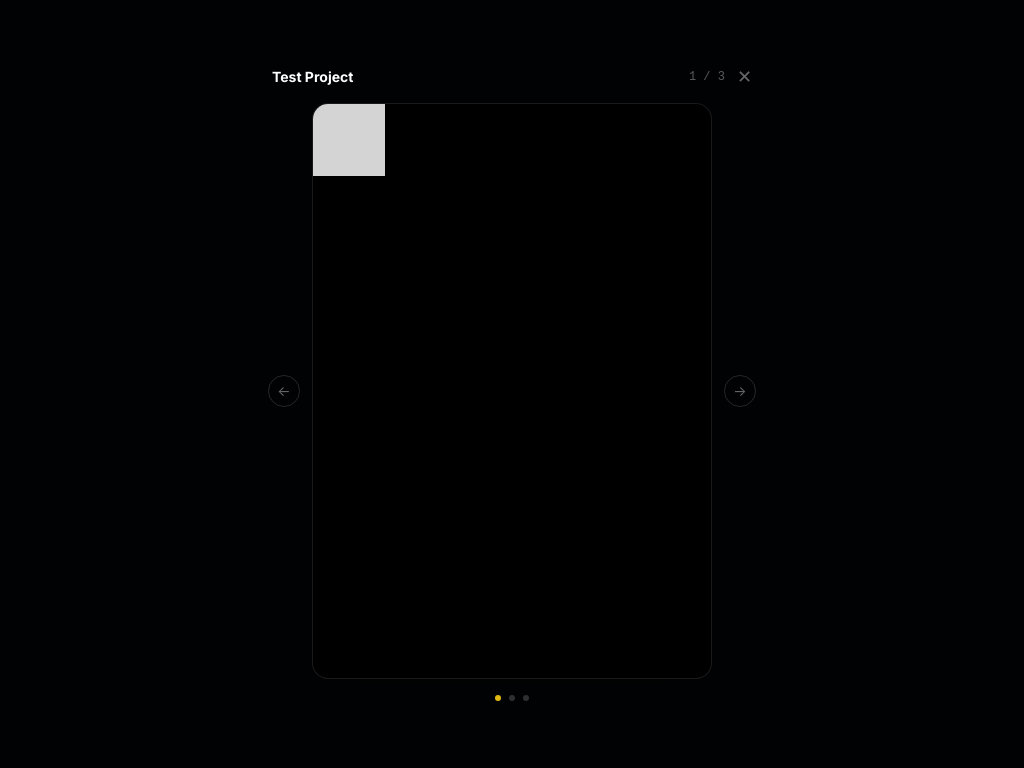
Test: ScreenshotModal › кнопка → переходит к следующему скриншоту
The image size is (1024, 768).
What coordinates should you click on to do the following:
click the button named "Следующий"
I would click on:
 (740, 391)
Its box is [724,375,756,407].
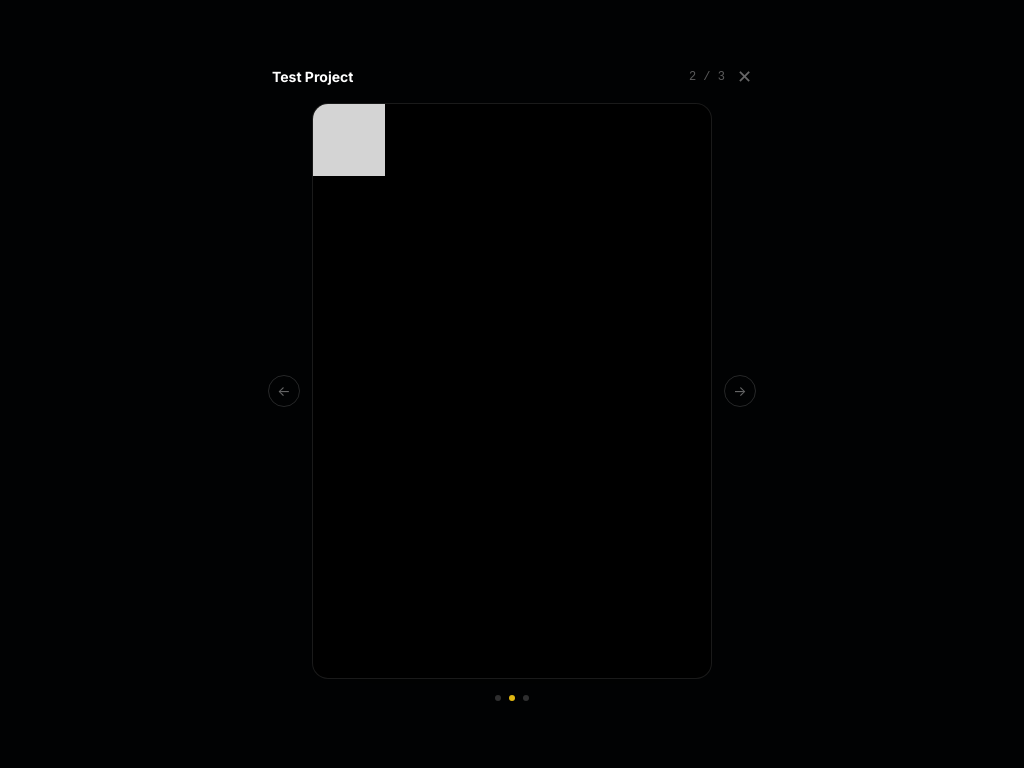
expect the text "2 / 3" is shown: met, box [689,69,725,85]
